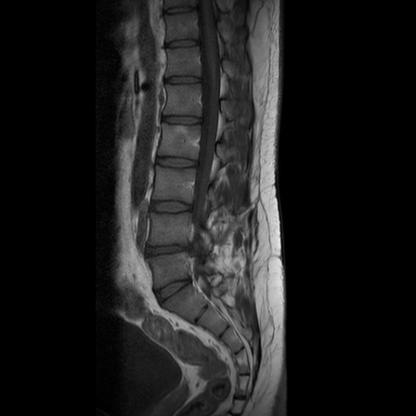Disc Bulgerotation: (144, 242, 192, 263)
